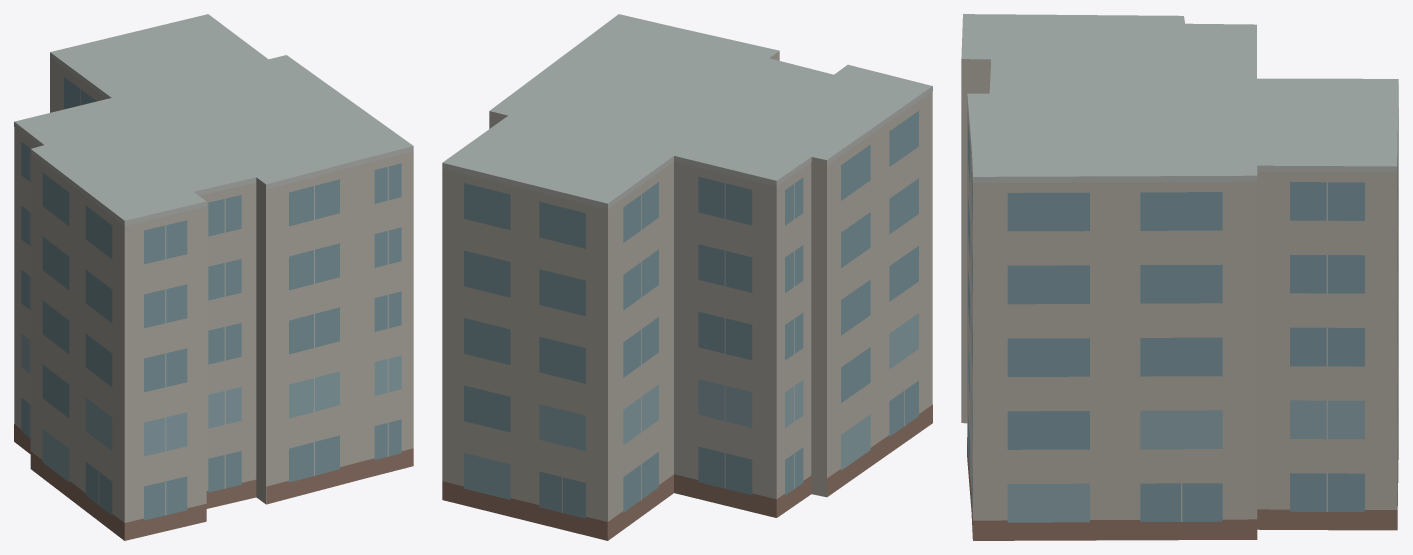
Rendered from survey-upis-32640047.glb.
3 renders of one model, left to right at view 1: azimuth 30°, elevation 25°; view 2: azimuth 150°, elevation 25°; view 3: azimuth 270°, elevation 25°, orthographic. The views are drawn at different scales.
Parts seen in each view (by area): view 1: survey-upis-32640047.tmp; view 2: survey-upis-32640047.tmp; view 3: survey-upis-32640047.tmp.
Part boxes in pixels (x1=…): survey-upis-32640047.tmp: x1=14, y1=14, x2=413, y2=540; survey-upis-32640047.tmp: x1=442, y1=14, x2=932, y2=540; survey-upis-32640047.tmp: x1=961, y1=14, x2=1398, y2=540.
Bounding box in the file's own units: 14.21 × 14.8 × 16.12.
